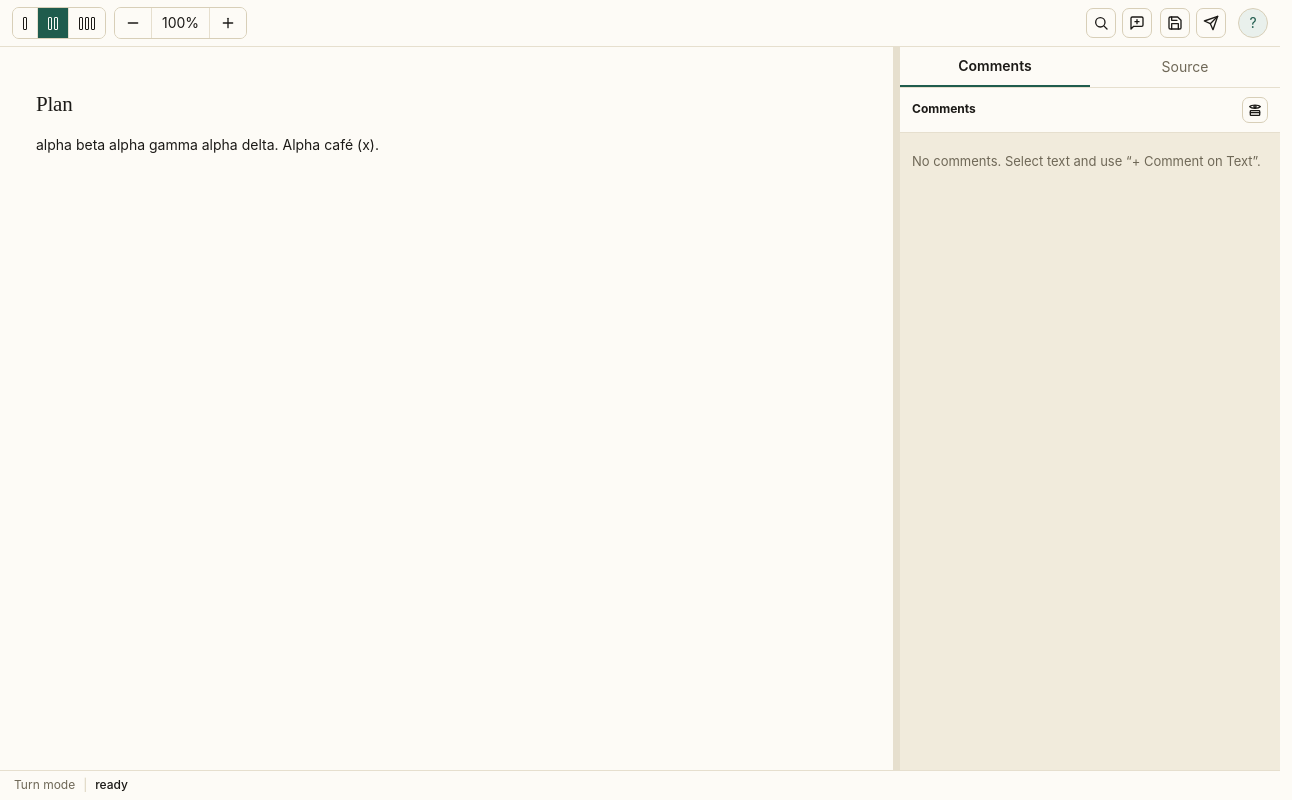
it: App find bar — match-count matrix (memory-backed) › renders N/M for a query with multiple body matches (1/3, case-sensitive)
This screenshot has width=1292, height=800.
Check: the field with placeholder "Find" is not shown
Press f
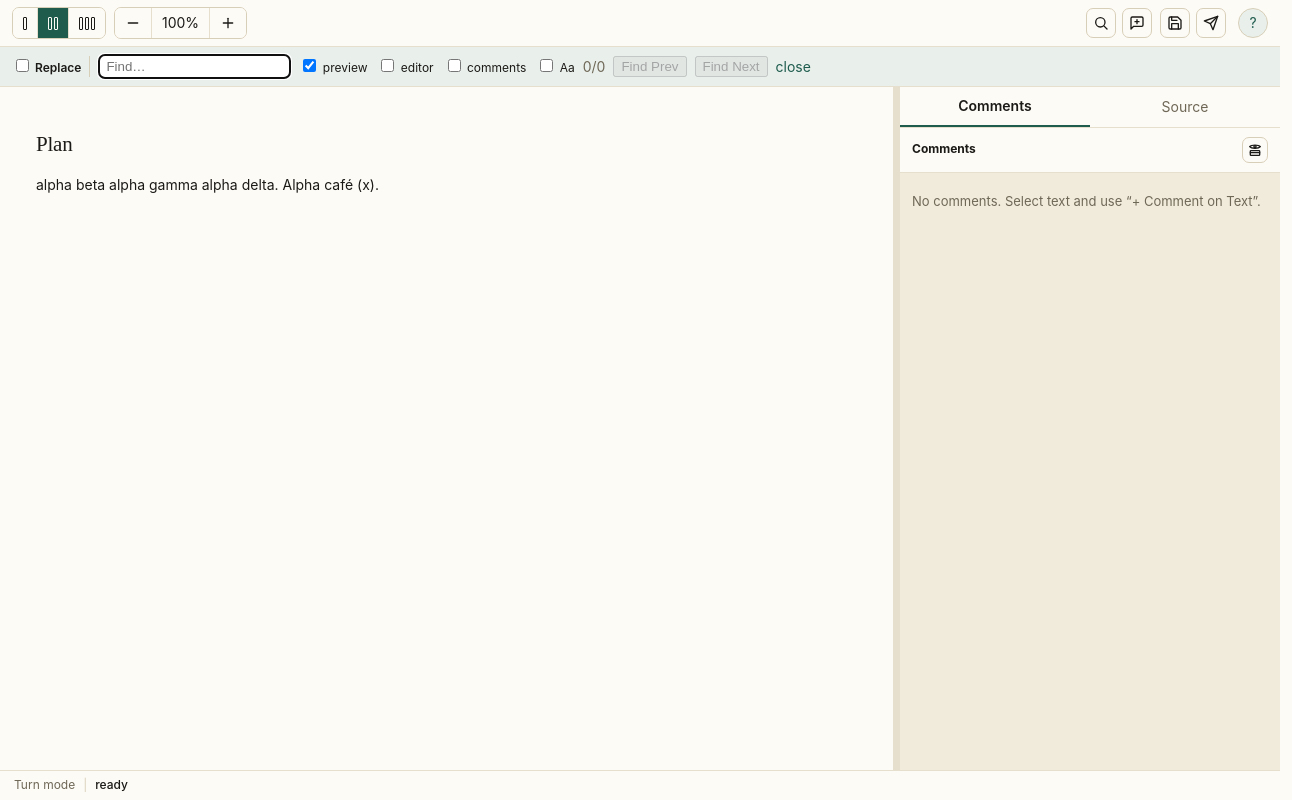
In the field with placeholder "Find…": (195, 66) [98,54,291,79], type "alpha"
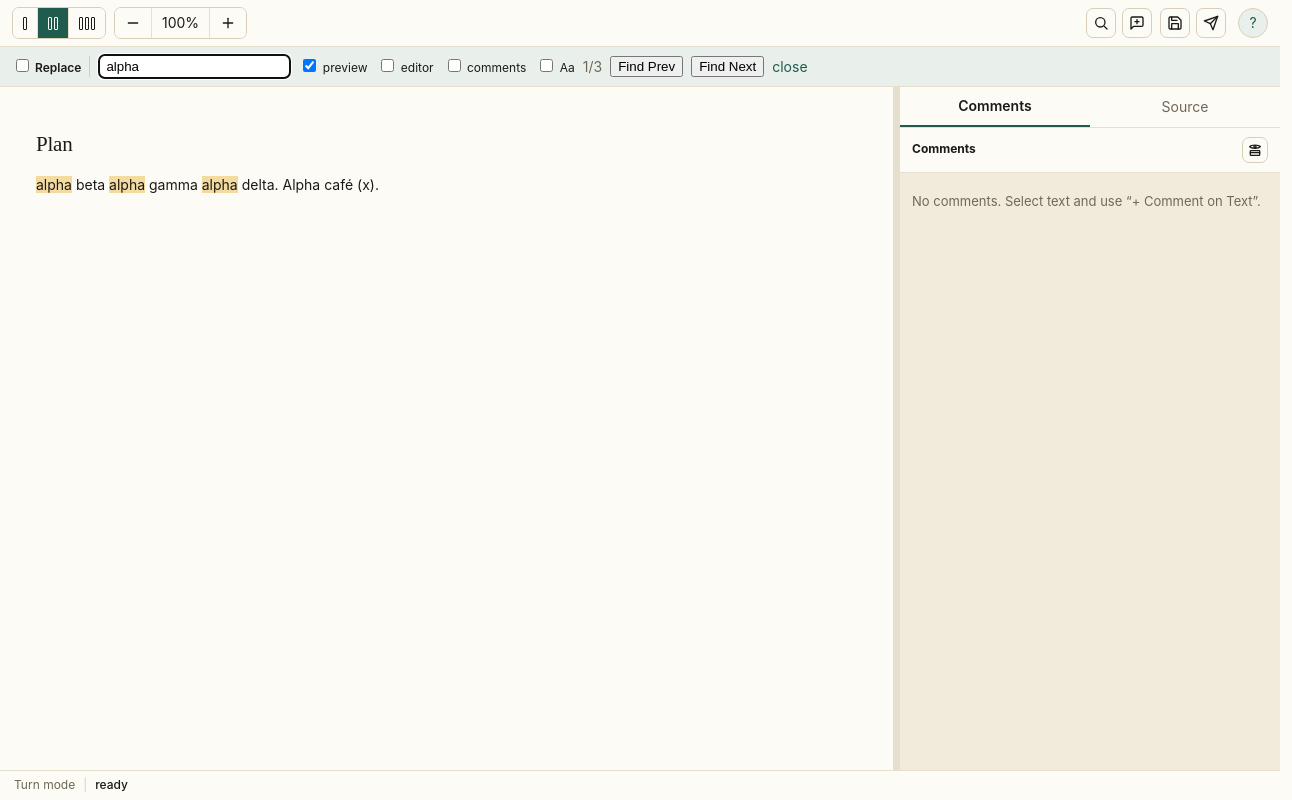
Check: the text "1/3" is shown, box [583,56,602,77]
